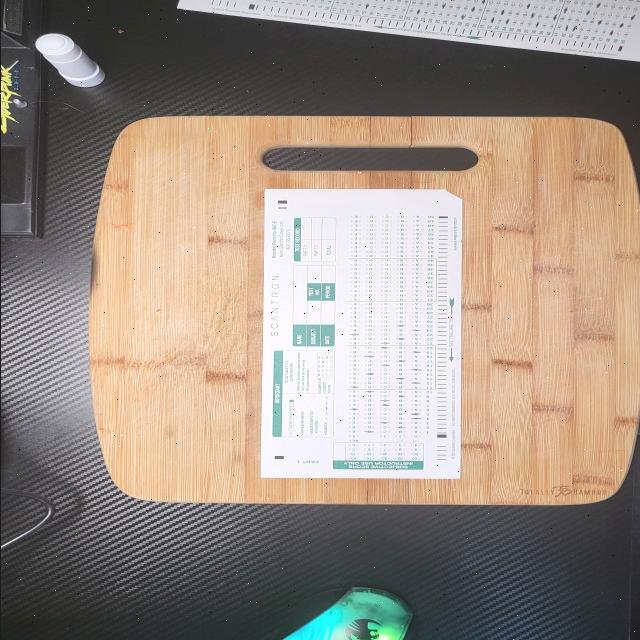scantron: (261, 189, 462, 479)
